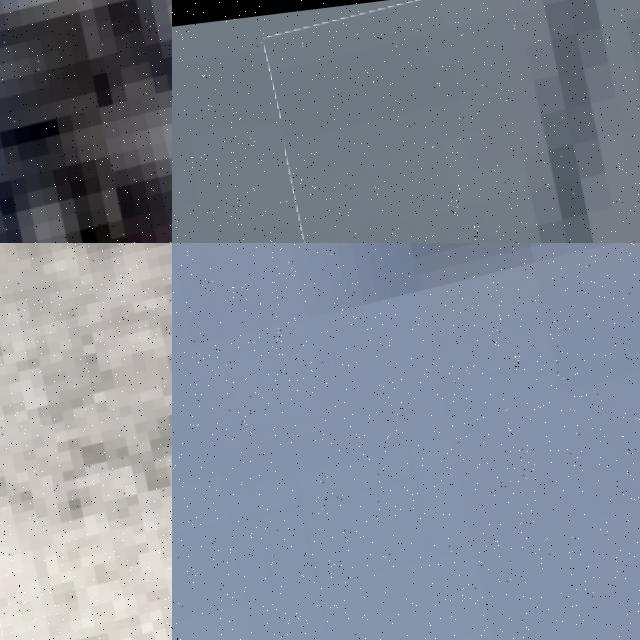drone: (172, 243, 640, 640), (268, 0, 640, 243), (0, 243, 172, 640), (0, 0, 172, 243)
